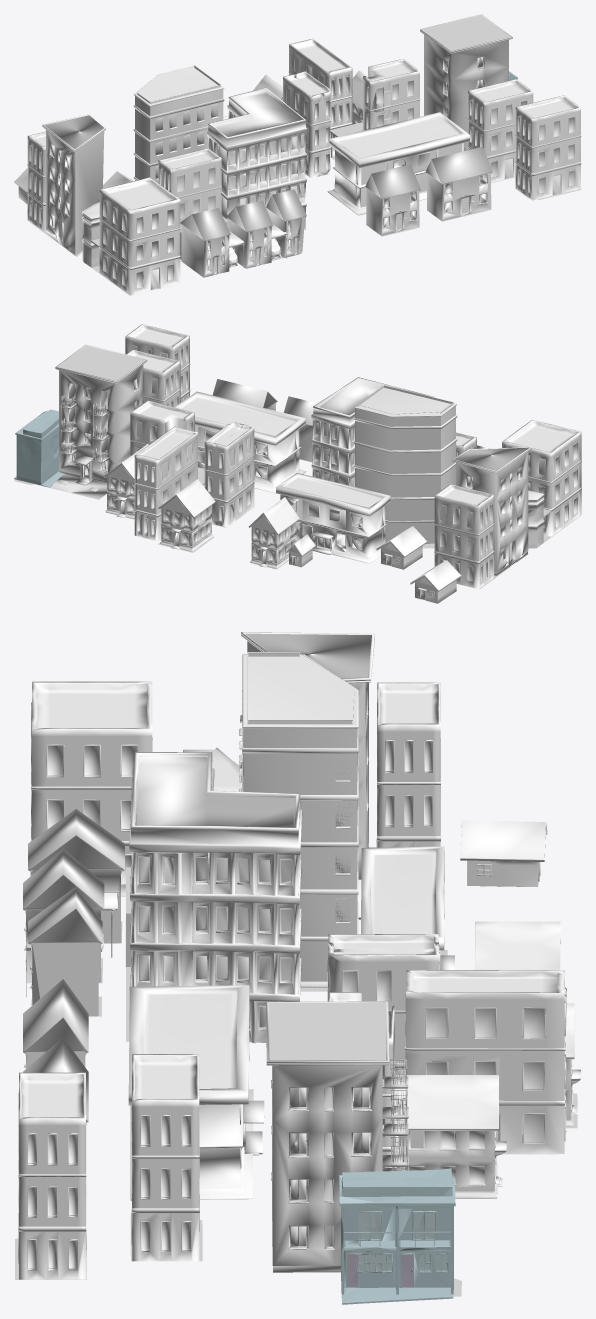
The model's file is 3Dfieldglb.glb.
3 views of the same model, one above another, from view 1: azimuth 30°, elevation 25°; view 2: azimuth 150°, elevation 25°; view 3: azimuth 270°, elevation 25° (orthographic). The views are drawn at different scales.
Parts seen in each view (by area): view 1: tripo_node_ea9571d6-1a64-4c9e-be9a-d9562c90b405, tripo_node_7c702e56-00d2-4c10-ba90-7abff40f0599.003, tripo_node_dd3f2a51-b126-48fb-8122-037dbf3bfbeb, tripo_node_e573920c-f321-4753-a7a2-741af46902f1.001, tripo_node_96fef377-c2ca-482f-a1b9-1c97c62eaa7d, tripo_node_96fef377-c2ca-482f-a1b9-1c97c62eaa7d.001, tripo_node_7c702e56-00d2-4c10-ba90-7abff40f0599, tripo_node_7c702e56-00d2-4c10-ba90-7abff40f0599.001, tripo_node_ef55f396-2889-439e-9b1a-6b36265ea35c.004, tripo_node_7c702e56-00d2-4c10-ba90-7abff40f0599.002, tripo_node_7c702e56-00d2-4c10-ba90-7abff40f0599.005, tripo_node_ef55f396-2889-439e-9b1a-6b36265ea35c.003 (+8 smaller); view 2: tripo_node_dd3f2a51-b126-48fb-8122-037dbf3bfbeb, tripo_node_96fef377-c2ca-482f-a1b9-1c97c62eaa7d, tripo_node_e573920c-f321-4753-a7a2-741af46902f1, tripo_node_e573920c-f321-4753-a7a2-741af46902f1.001, tripo_node_96fef377-c2ca-482f-a1b9-1c97c62eaa7d.001, tripo_node_7c702e56-00d2-4c10-ba90-7abff40f0599.003, tripo_node_7c702e56-00d2-4c10-ba90-7abff40f0599.004, tripo_node_7c702e56-00d2-4c10-ba90-7abff40f0599.006, tripo_node_7c702e56-00d2-4c10-ba90-7abff40f0599.007, tripo_node_ea9571d6-1a64-4c9e-be9a-d9562c90b405, tripo_node_40fd3f95-006d-4542-813f-c439f0dc0e5b.001, tripo_node_c7706805 (+11 smaller); view 3: tripo_node_ea9571d6-1a64-4c9e-be9a-d9562c90b405, tripo_node_96fef377-c2ca-482f-a1b9-1c97c62eaa7d, tripo_node_dd3f2a51-b126-48fb-8122-037dbf3bfbeb, tripo_node_7c702e56-00d2-4c10-ba90-7abff40f0599.006, tripo_node_e573920c-f321-4753-a7a2-741af46902f1.001, tripo_node_7c702e56-00d2-4c10-ba90-7abff40f0599.003, tripo_node_c7706805, tripo_node_7c702e56-00d2-4c10-ba90-7abff40f0599, tripo_node_7c702e56-00d2-4c10-ba90-7abff40f0599.001, tripo_node_7c702e56-00d2-4c10-ba90-7abff40f0599.004, tripo_node_40fd3f95-006d-4542-813f-c439f0dc0e5b, tripo_node_e573920c-f321-4753-a7a2-741af46902f1 (+12 smaller).
Part boxes in pixels (x1,y1,x2,y2): tripo_node_ea9571d6-1a64-4c9e-be9a-d9562c90b405: (207, 87, 307, 228); tripo_node_7c702e56-00d2-4c10-ba90-7abff40f0599.003: (99, 177, 180, 295); tripo_node_dd3f2a51-b126-48fb-8122-037dbf3bfbeb: (133, 65, 224, 182); tripo_node_e573920c-f321-4753-a7a2-741af46902f1.001: (327, 112, 469, 215); tripo_node_96fef377-c2ca-482f-a1b9-1c97c62eaa7d: (420, 14, 512, 150); tripo_node_96fef377-c2ca-482f-a1b9-1c97c62eaa7d.001: (42, 114, 105, 255); tripo_node_7c702e56-00d2-4c10-ba90-7abff40f0599: (515, 95, 581, 200); tripo_node_7c702e56-00d2-4c10-ba90-7abff40f0599.001: (467, 79, 533, 182); tripo_node_ef55f396-2889-439e-9b1a-6b36265ea35c.004: (425, 146, 492, 220); tripo_node_7c702e56-00d2-4c10-ba90-7abff40f0599.002: (363, 58, 420, 130); tripo_node_7c702e56-00d2-4c10-ba90-7abff40f0599.005: (158, 148, 221, 225); tripo_node_ef55f396-2889-439e-9b1a-6b36265ea35c.003: (365, 164, 420, 235); tripo_node_dd3f2a51-b126-48fb-8122-037dbf3bfbeb: (354, 385, 457, 544); tripo_node_96fef377-c2ca-482f-a1b9-1c97c62eaa7d: (41, 344, 147, 499); tripo_node_e573920c-f321-4753-a7a2-741af46902f1: (276, 473, 390, 563); tripo_node_e573920c-f321-4753-a7a2-741af46902f1.001: (174, 391, 306, 493); tripo_node_96fef377-c2ca-482f-a1b9-1c97c62eaa7d.001: (452, 447, 531, 575); tripo_node_7c702e56-00d2-4c10-ba90-7abff40f0599.003: (502, 420, 581, 536); tripo_node_7c702e56-00d2-4c10-ba90-7abff40f0599.004: (434, 484, 494, 588); tripo_node_7c702e56-00d2-4c10-ba90-7abff40f0599.006: (134, 426, 198, 541); tripo_node_7c702e56-00d2-4c10-ba90-7abff40f0599.007: (204, 422, 254, 527); tripo_node_ea9571d6-1a64-4c9e-be9a-d9562c90b405: (311, 377, 434, 486); tripo_node_40fd3f95-006d-4542-813f-c439f0dc0e5b.001: (158, 479, 215, 551); tripo_node_c7706805: (14, 409, 64, 487); tripo_node_ea9571d6-1a64-4c9e-be9a-d9562c90b405: (129, 752, 302, 1043); tripo_node_96fef377-c2ca-482f-a1b9-1c97c62eaa7d: (266, 1001, 408, 1272); tripo_node_dd3f2a51-b126-48fb-8122-037dbf3bfbeb: (239, 652, 358, 987); tripo_node_7c702e56-00d2-4c10-ba90-7abff40f0599.006: (405, 970, 566, 1153); tripo_node_e573920c-f321-4753-a7a2-741af46902f1.001: (128, 985, 264, 1200); tripo_node_7c702e56-00d2-4c10-ba90-7abff40f0599.003: (30, 681, 152, 895); tripo_node_c7706805: (339, 1168, 455, 1304); tripo_node_7c702e56-00d2-4c10-ba90-7abff40f0599: (18, 1072, 86, 1279); tripo_node_7c702e56-00d2-4c10-ba90-7abff40f0599.001: (131, 1054, 199, 1261); tripo_node_7c702e56-00d2-4c10-ba90-7abff40f0599.004: (376, 682, 440, 847); tripo_node_40fd3f95-006d-4542-813f-c439f0dc0e5b: (394, 1075, 506, 1198); tripo_node_e573920c-f321-4753-a7a2-741af46902f1: (361, 846, 454, 970).
Size of what is drawn, in the model's own units: 3.67 by 1.01 by 1.91.
28 materials, 1 textured.
